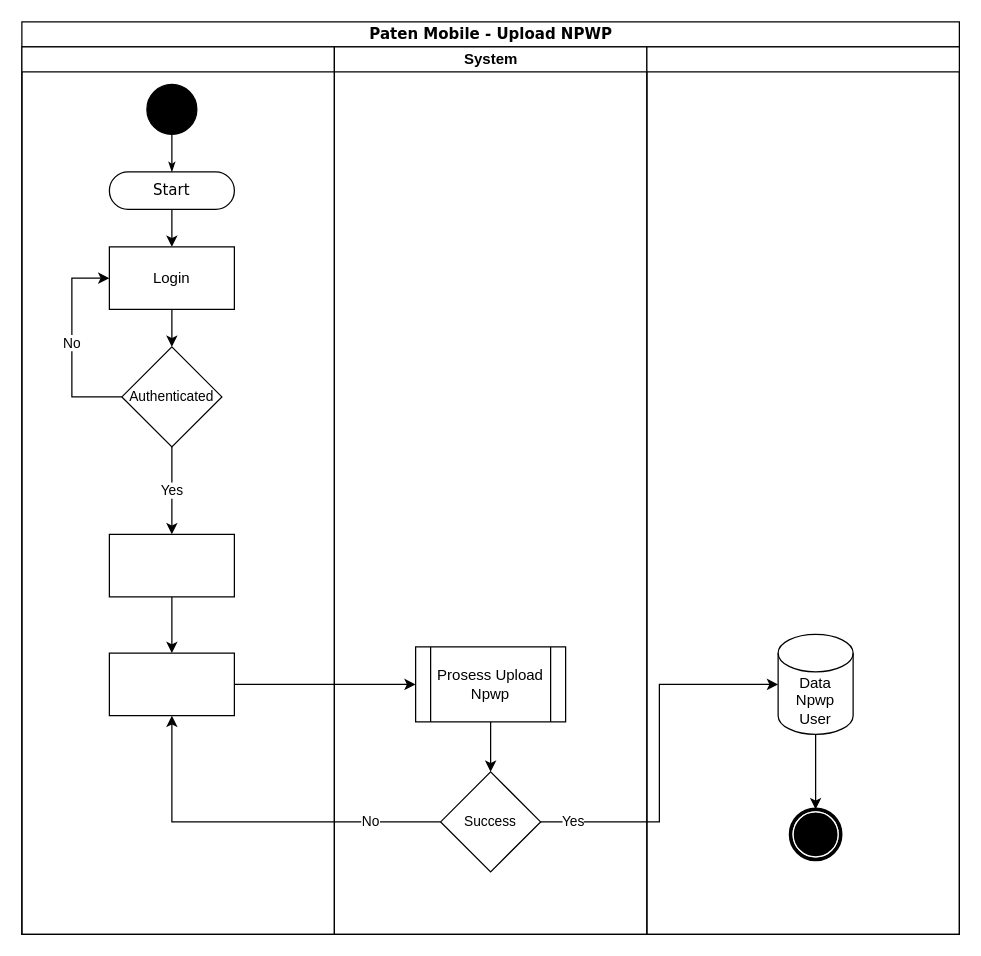
Some shapes in this 981 by 956 pixel diagram are drawn without their labels. The shapes that lost their labels are listed below. From the top down, each one's box as (x1, y1, x2, y2) in pixels, then its label:
(21, 46, 334, 934): Customer
(646, 46, 959, 934): Database
(108, 533, 234, 597): Home
(108, 652, 234, 716): Menu Upload Npwp
